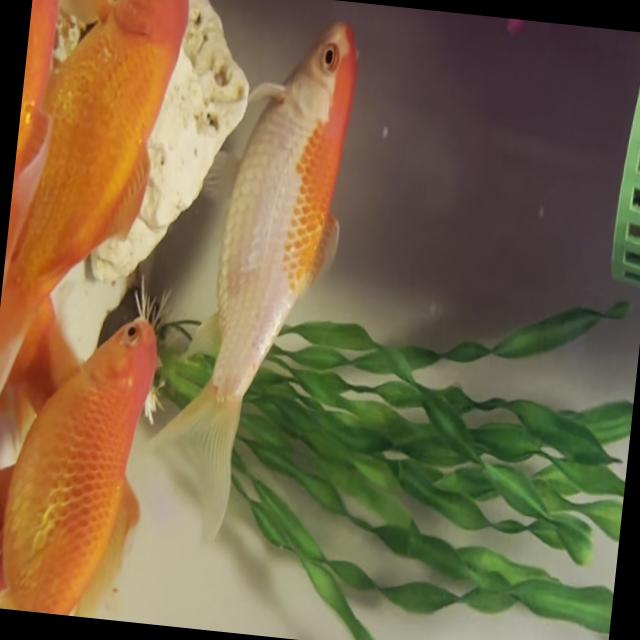fish: (137, 9, 359, 558), (0, 0, 193, 335), (3, 290, 173, 623)
